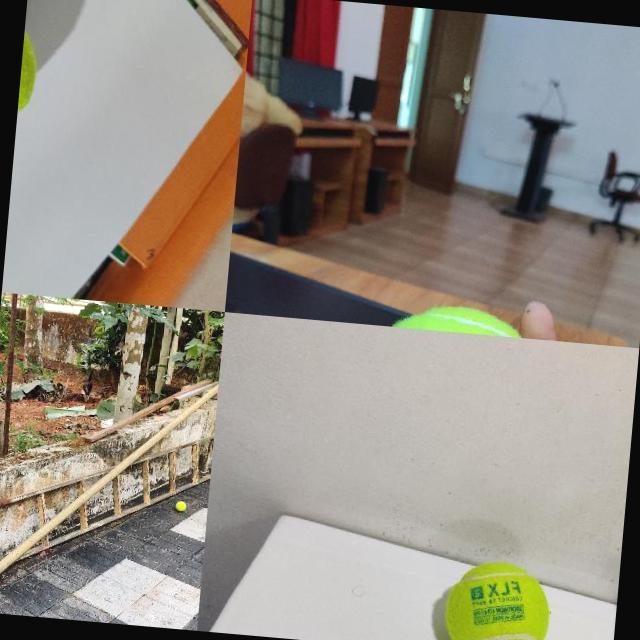Tennis Ball: (440, 557, 555, 640), (175, 500, 187, 511)
